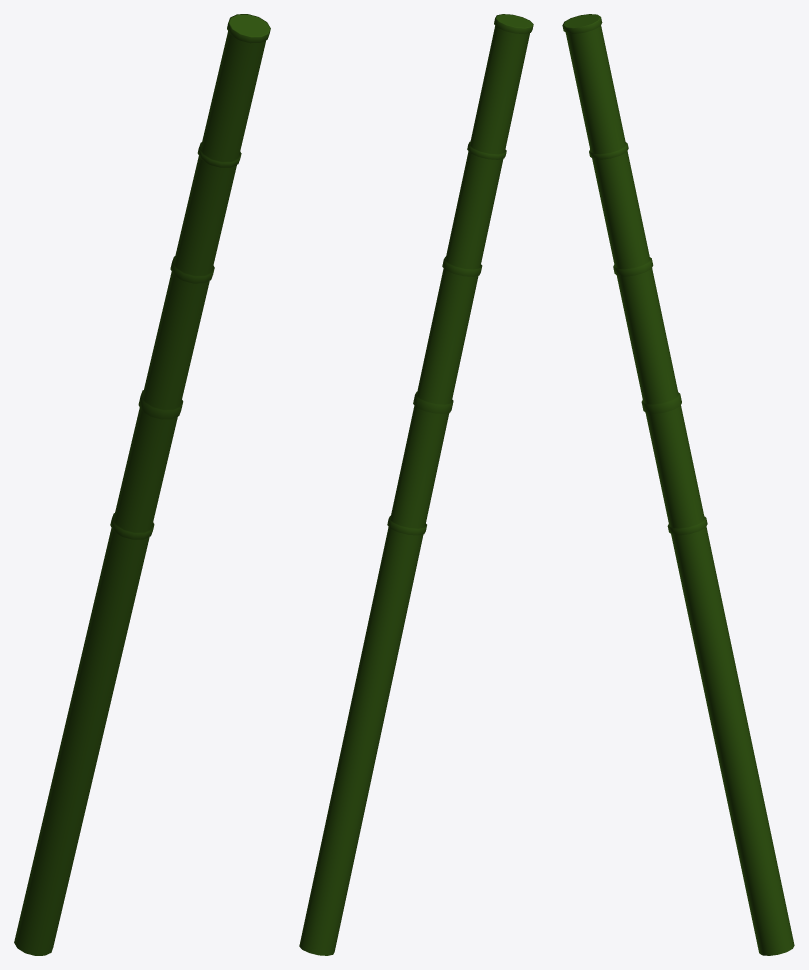
File: BambooStick.obj
The picture shows the model from 3 angles, left to right: view 1: azimuth 90°, elevation 25°; view 2: azimuth 150°, elevation 25°; view 3: azimuth 270°, elevation 25°; orthographic projection. The views are drawn at different scales.
Visible parts, largest first — view 1: Bamboo1 group4; view 2: Bamboo1 group4; view 3: Bamboo1 group4.
Part boxes in pixels (<box>): Bamboo1 group4: <box>14,14,270,955</box>; Bamboo1 group4: <box>299,14,533,955</box>; Bamboo1 group4: <box>562,14,794,955</box>.
Bounding box in the file's own units: 3.66 × 23.5 × 5.57.
